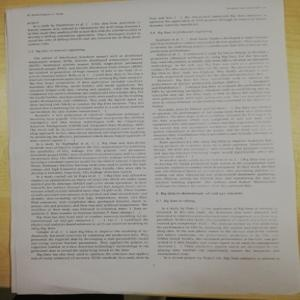text: (29, 142, 149, 229), (152, 107, 277, 187), (149, 36, 272, 106), (27, 53, 145, 111), (156, 204, 279, 256), (28, 228, 151, 261), (27, 112, 145, 141), (27, 20, 143, 45), (147, 12, 270, 30)
